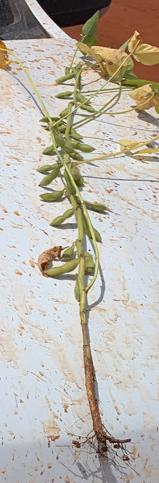soja: (42, 258, 85, 280), (82, 196, 115, 217), (40, 163, 62, 188), (52, 206, 76, 227), (39, 187, 68, 203), (68, 140, 97, 155), (84, 224, 104, 245), (60, 241, 78, 263), (37, 160, 62, 175), (65, 148, 87, 164), (74, 94, 94, 107), (54, 90, 77, 101), (79, 104, 98, 117), (57, 73, 77, 85), (70, 126, 83, 141), (38, 116, 63, 123), (60, 105, 72, 119), (42, 146, 58, 156)
